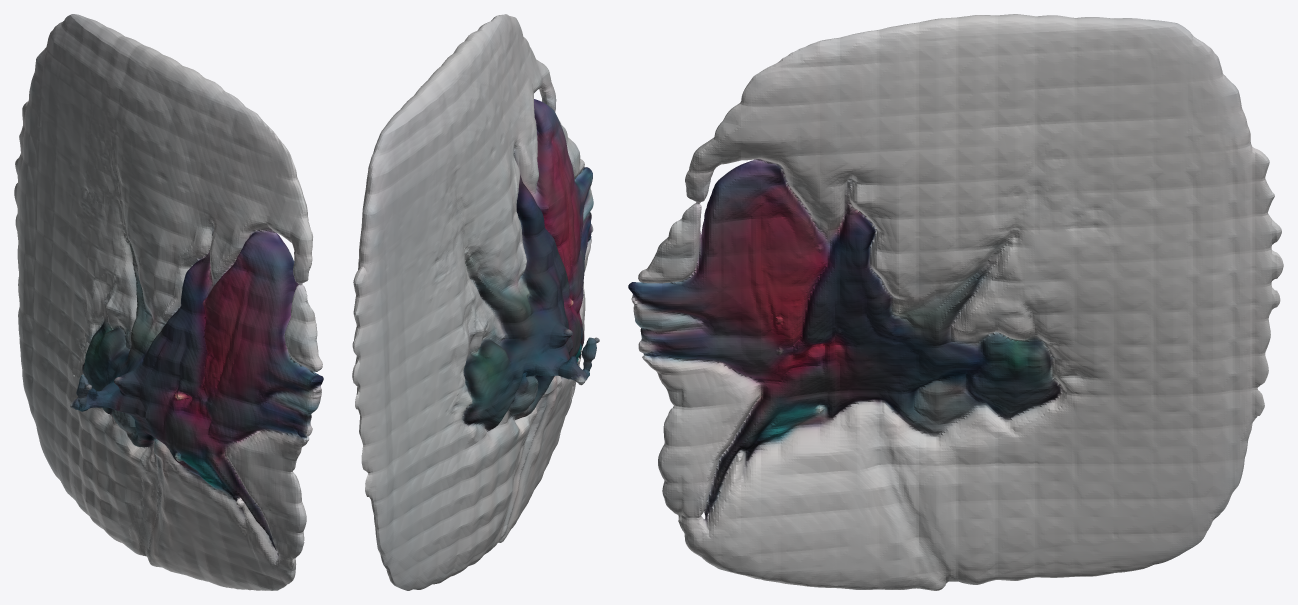
Rendered from gilly.glb.
The picture shows the model from 3 angles, left to right: view 1: azimuth 30°, elevation 25°; view 2: azimuth 150°, elevation 25°; view 3: azimuth 270°, elevation 25°; orthographic projection. The views are drawn at different scales.
Parts seen in each view (by area): view 1: world; view 2: world; view 3: world.
Part boxes in pixels (x1,y1,x2,y2): world: (14, 14, 323, 590); world: (352, 14, 599, 590); world: (628, 14, 1283, 590).
Size of the model in its own units: 0.297 by 0.8996 by 0.9032.
